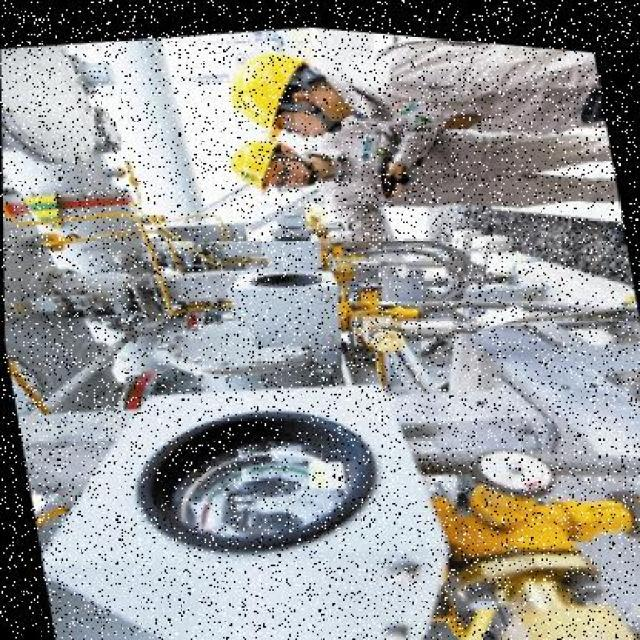helmet: (223, 38, 311, 134), (214, 126, 293, 194)
